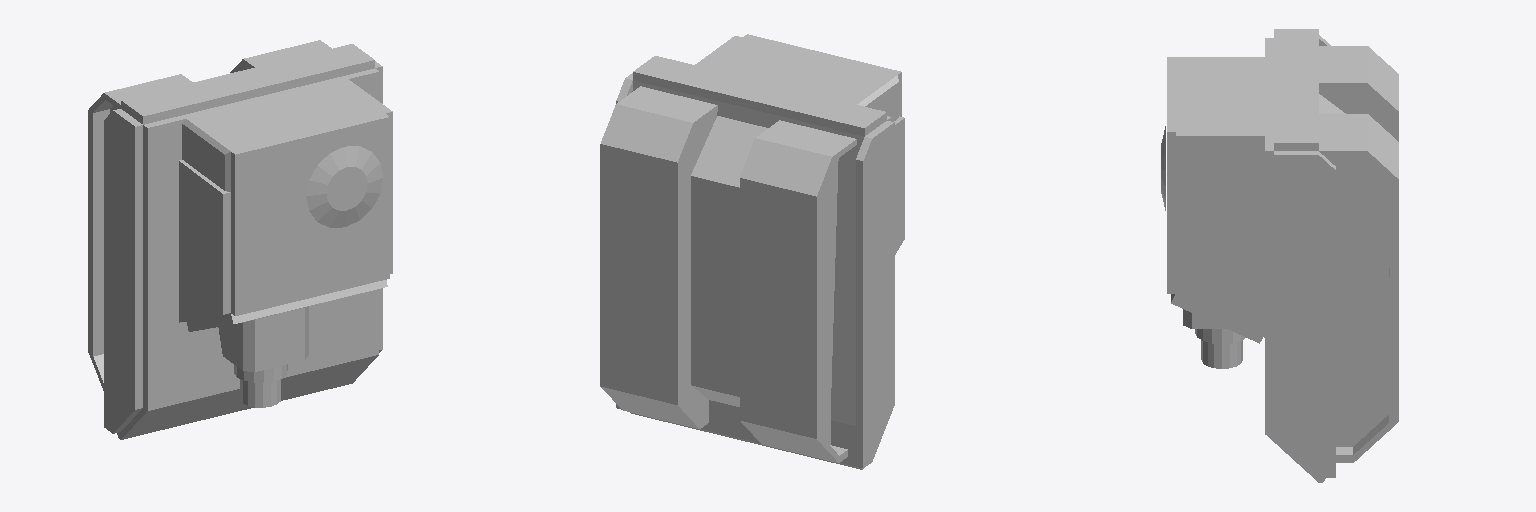
File: tankMesh.obj
3 renders of one model, left to right at view 1: azimuth 30°, elevation 25°; view 2: azimuth 150°, elevation 25°; view 3: azimuth 270°, elevation 25°, orthographic.
Size of the model in its own units: 0.5005 by 0.6574 by 0.4165.